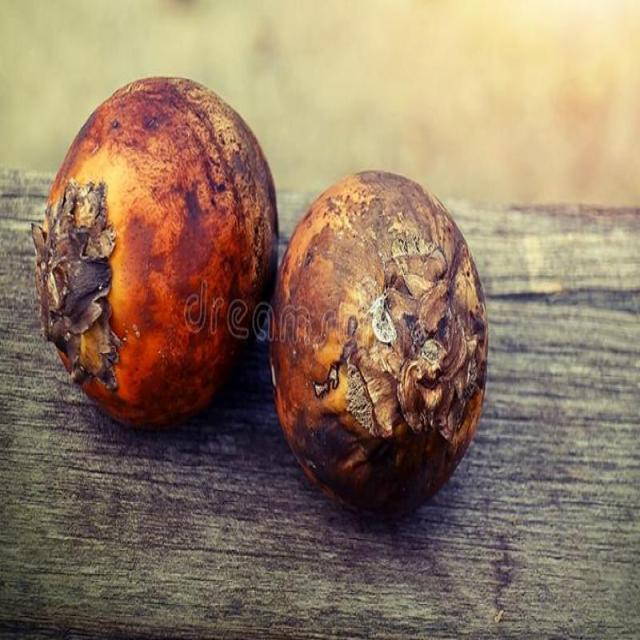damaged: (31, 78, 279, 431), (269, 171, 490, 518)
